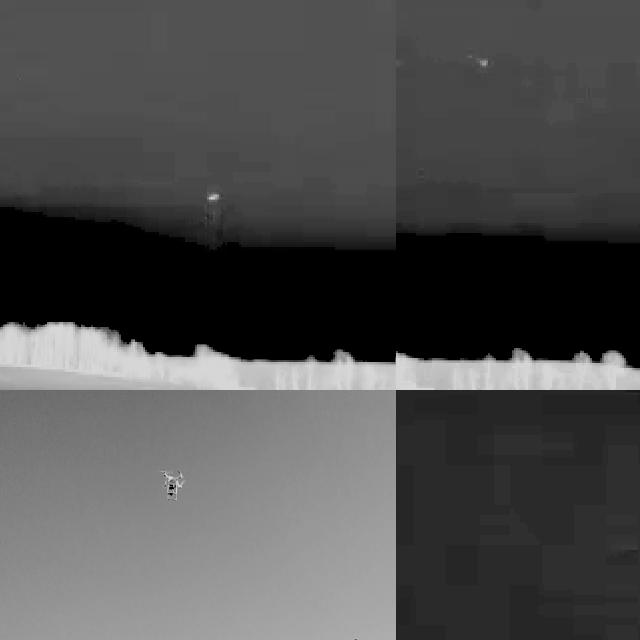0: (477, 54, 497, 77)
1: (192, 180, 234, 226)
drone: (159, 460, 189, 502)
